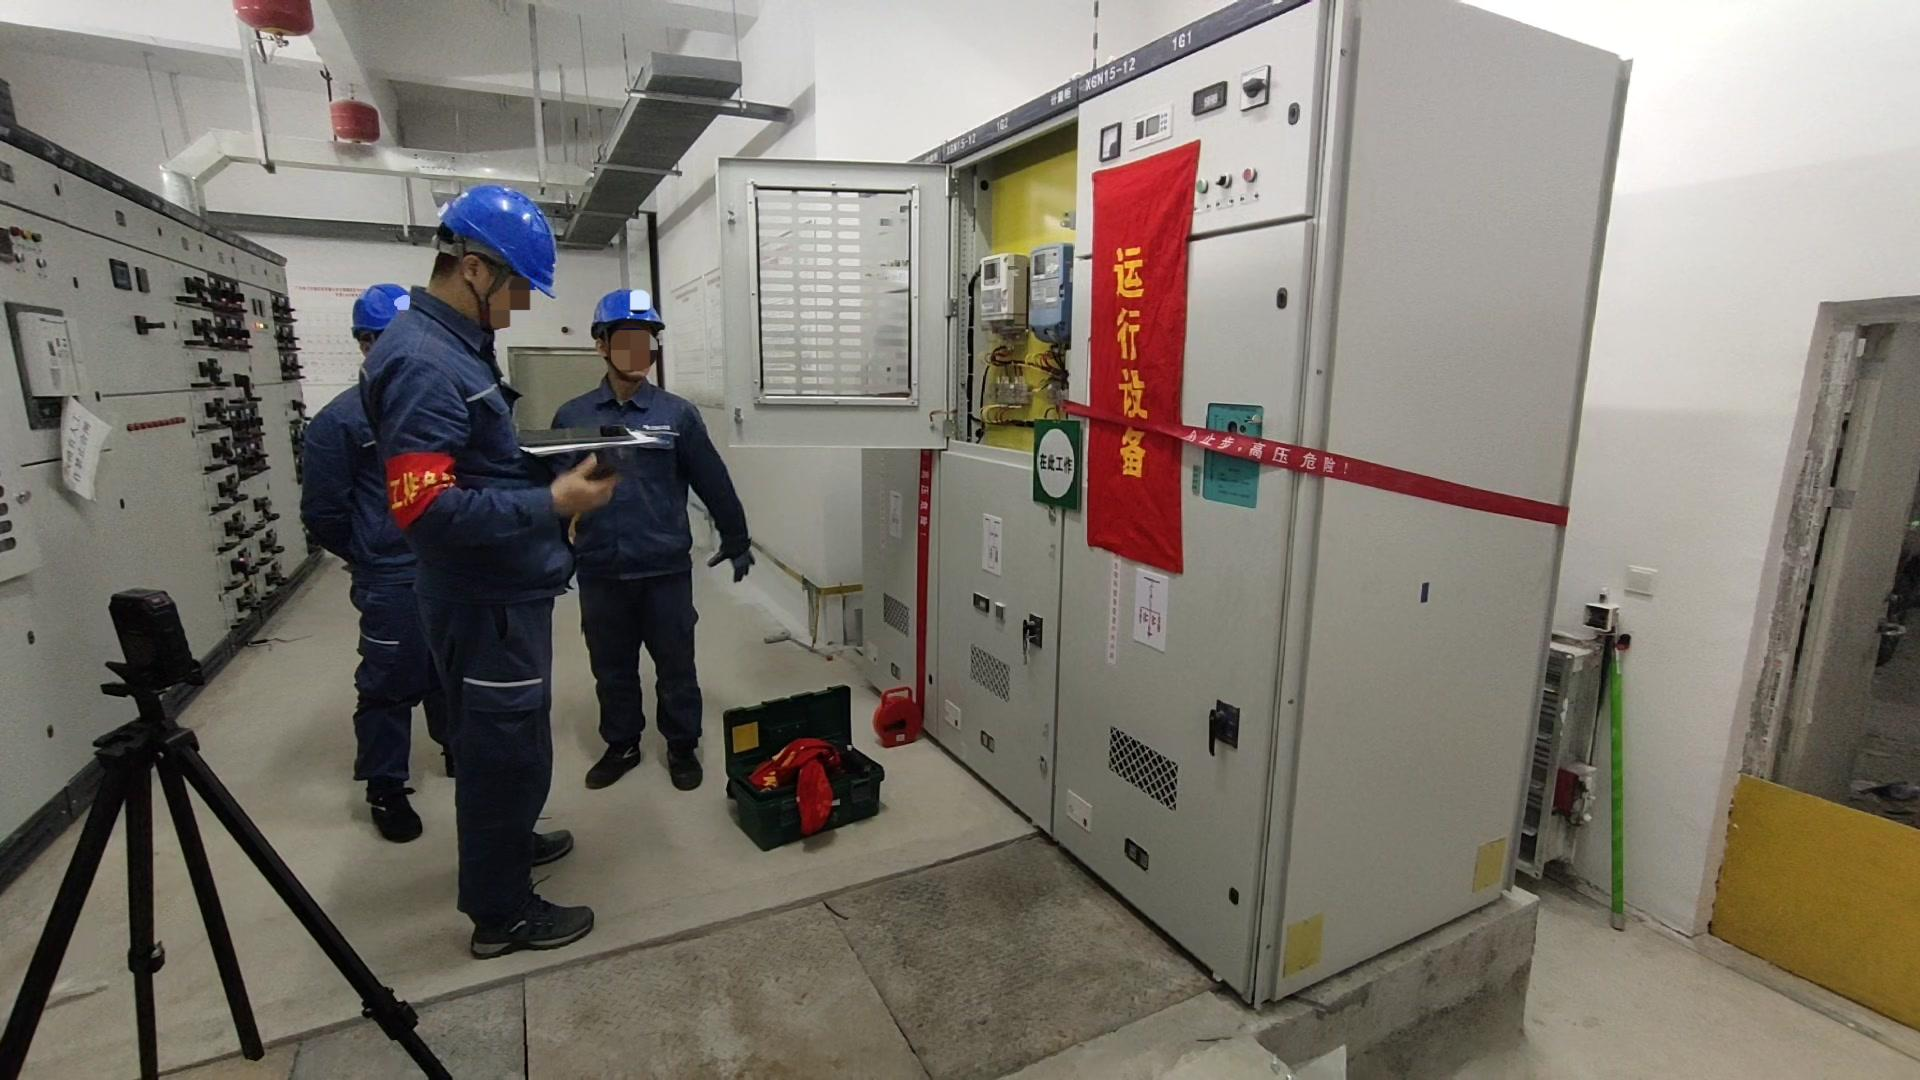halt: (433, 189, 560, 326), (589, 290, 669, 390), (352, 286, 410, 349)
inear: (454, 251, 513, 313), (591, 330, 618, 365)
